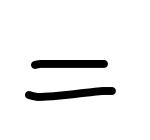eqv: (20, 55, 121, 101)
